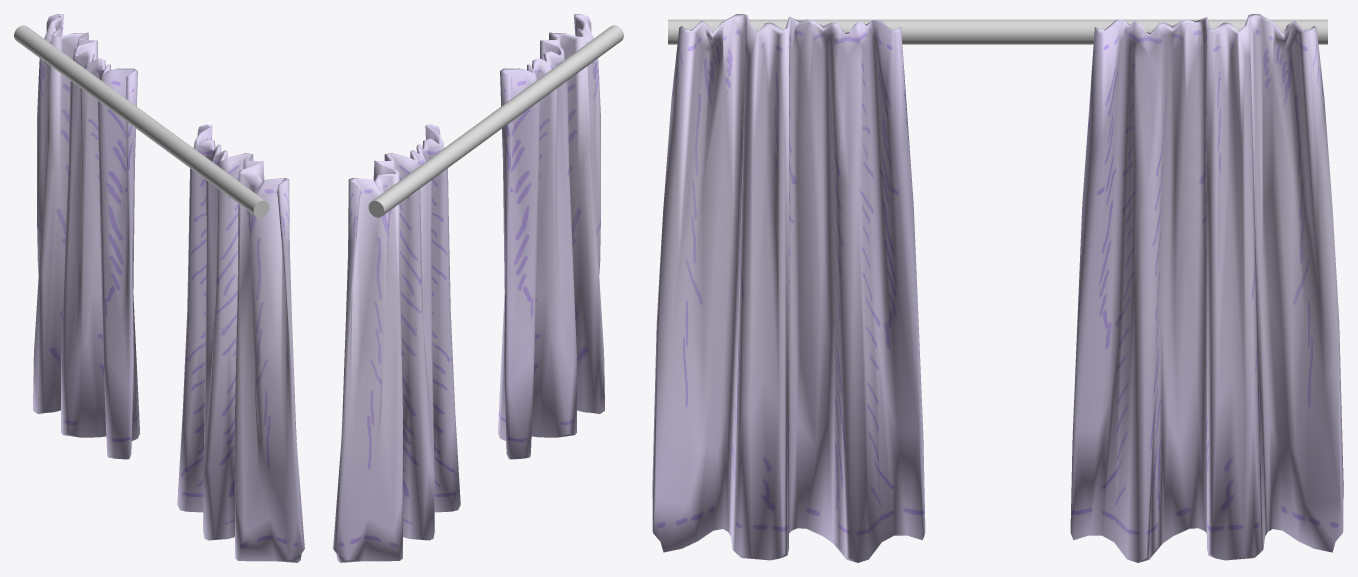
Rendered from F_Curtain.fbx.
3 views of the same model, side by side, from view 1: azimuth 30°, elevation 25°; view 2: azimuth 150°, elevation 25°; view 3: azimuth 270°, elevation 25° (orthographic). The views are drawn at different scales.
Visible parts, largest first — view 1: Curtain.001, Curtain, MetalBarVartian; view 2: Curtain, Curtain.001, MetalBarVartian; view 3: Curtain, Curtain.001, MetalBarVartian.
Part boxes in pixels (left/top/right/bottom): Curtain.001: left=177, top=124, right=304, bottom=562; Curtain: left=33, top=14, right=139, bottom=459; MetalBarVartian: left=14, top=25, right=269, bottom=217; Curtain: left=333, top=124, right=460, bottom=562; Curtain.001: left=498, top=14, right=604, bottom=459; MetalBarVartian: left=368, top=25, right=623, bottom=217; Curtain: left=1070, top=14, right=1343, bottom=562; Curtain.001: left=652, top=14, right=925, bottom=562; MetalBarVartian: left=668, top=19, right=1327, bottom=44.
Bounding box in the file's own units: 495 × 3148 × 3760.
